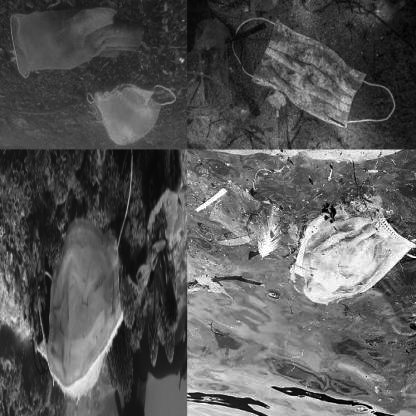Mask: (218, 6, 402, 134), (35, 217, 122, 395), (287, 191, 415, 307), (86, 86, 178, 144)
glove: (8, 6, 145, 78)
